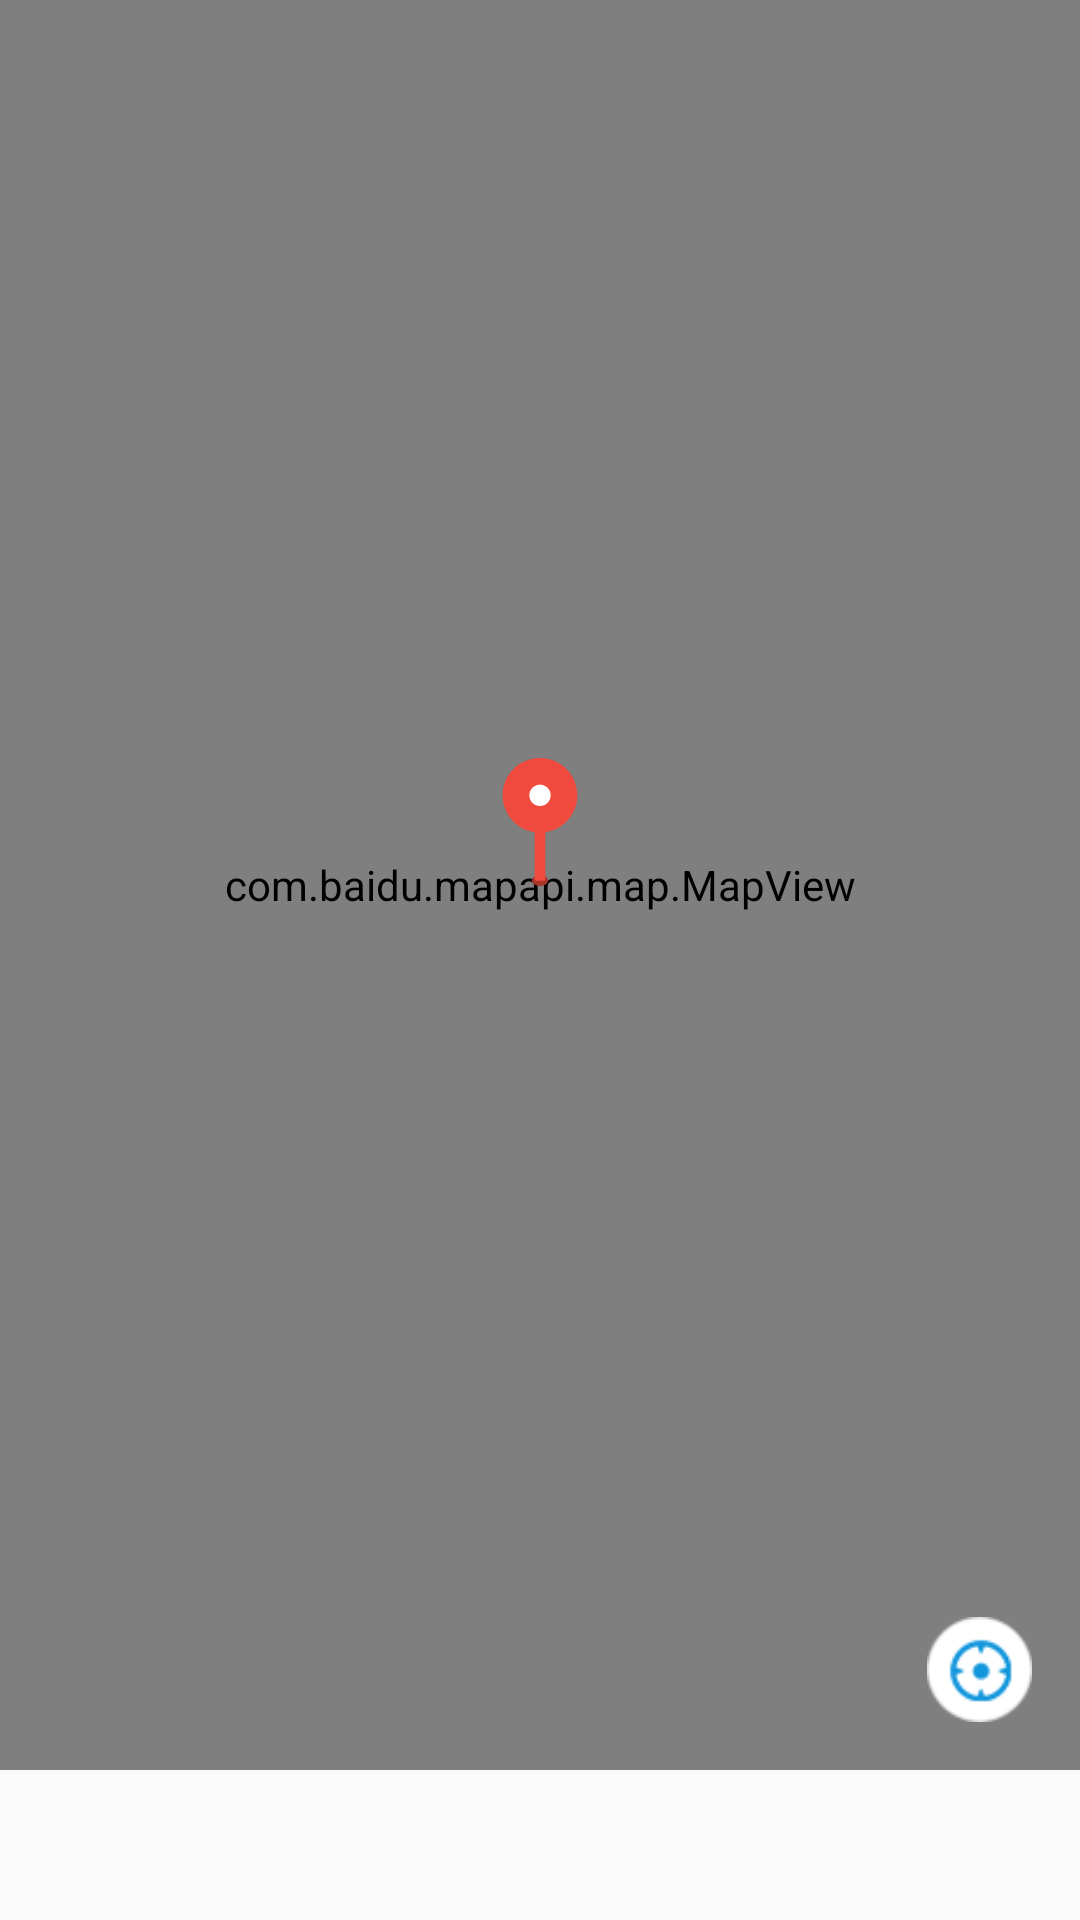

Point at icon controls on the screen. Image size 1080x1920, points as [x,y].
ding: [540,822]
location: [979,1669]
